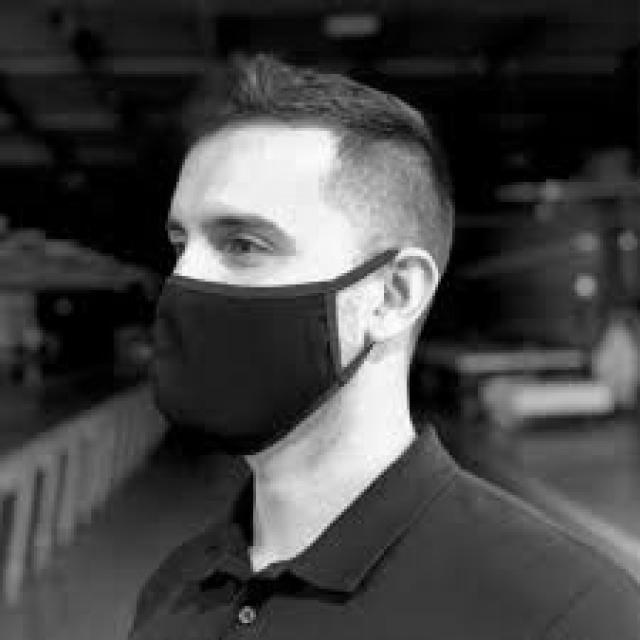fake: (125, 256, 395, 470)
real: (163, 135, 350, 455)
